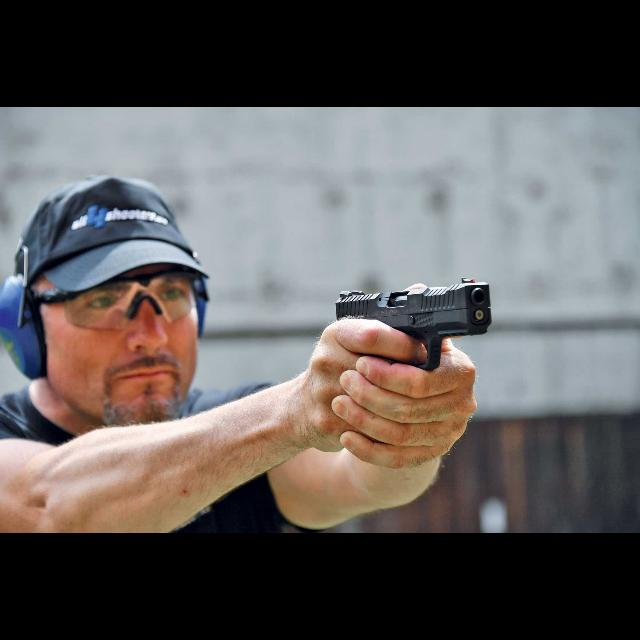handgun: (332, 276, 494, 374)
